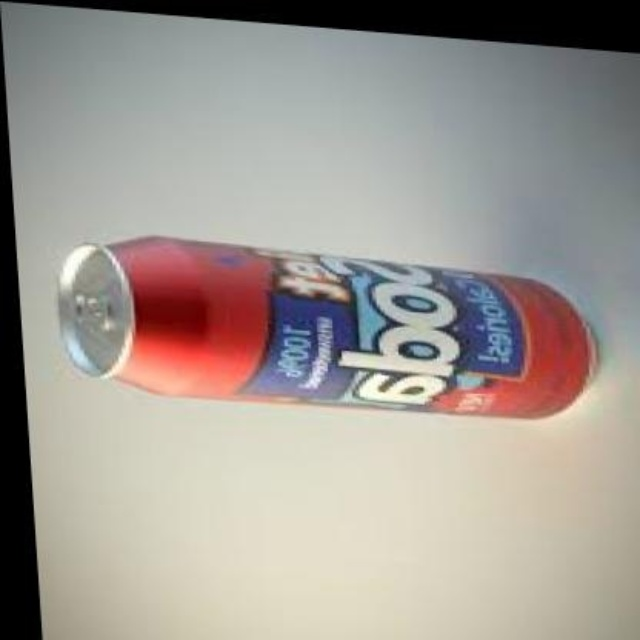trash: (58, 237, 595, 417)
